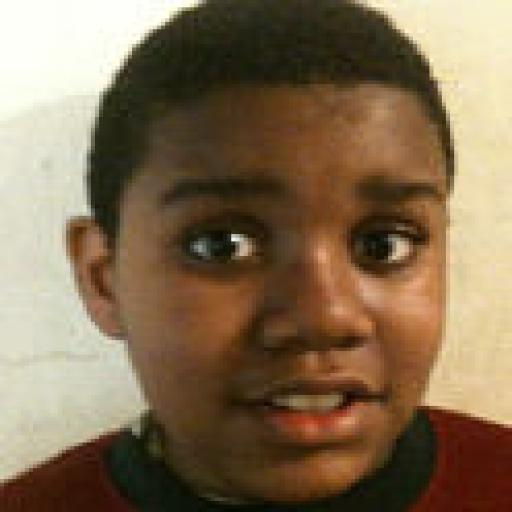Autism: (86, 1, 512, 465)
